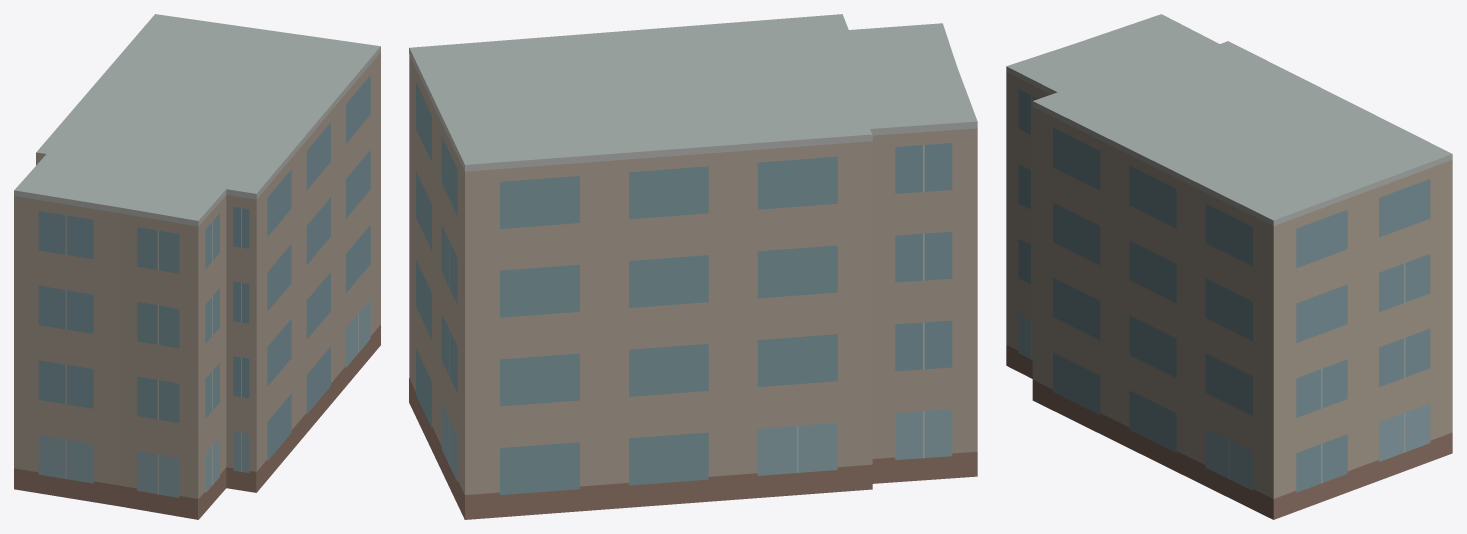
Rendered from survey-upis-32735178.glb.
The picture shows the model from 3 angles, left to right: view 1: azimuth 30°, elevation 25°; view 2: azimuth 150°, elevation 25°; view 3: azimuth 270°, elevation 25°; orthographic projection. The views are drawn at different scales.
Parts seen in each view (by area): view 1: survey-upis-32735178.tmp; view 2: survey-upis-32735178.tmp; view 3: survey-upis-32735178.tmp.
Part boxes in pixels (bbox=[...]): survey-upis-32735178.tmp: bbox=[14, 14, 380, 519]; survey-upis-32735178.tmp: bbox=[409, 14, 977, 519]; survey-upis-32735178.tmp: bbox=[1006, 14, 1452, 519].
Bounding box in the file's own units: 18.95 × 12.8 × 17.31.
